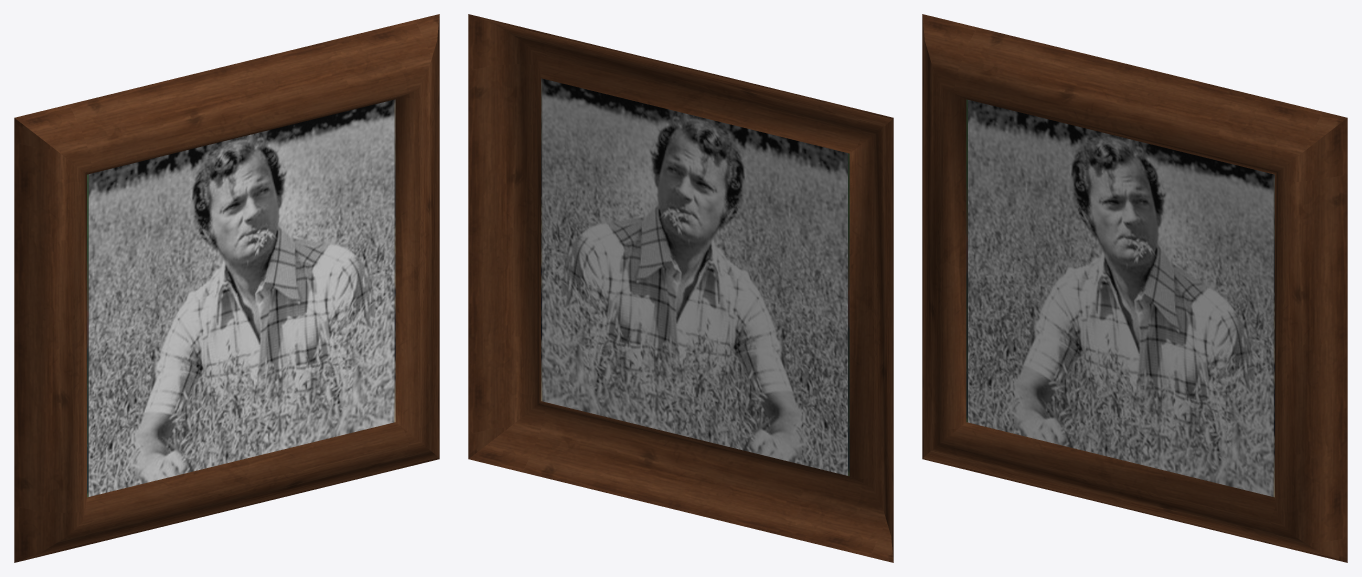
The model's file is EN_P_Frame5.fbx.
3 renders of one model, left to right at view 1: azimuth 30°, elevation 25°; view 2: azimuth 150°, elevation 25°; view 3: azimuth 330°, elevation 25°, orthographic.
Visible parts, largest first — view 1: frame5; view 2: frame5; view 3: frame5.
Boxes of the visible parts, box(x1,y1,x2,y2) form: frame5: box(14, 14, 439, 562); frame5: box(468, 14, 893, 562); frame5: box(922, 14, 1347, 562).
Bounding box in the file's own units: 36.91 × 36.91 × 3.52.
